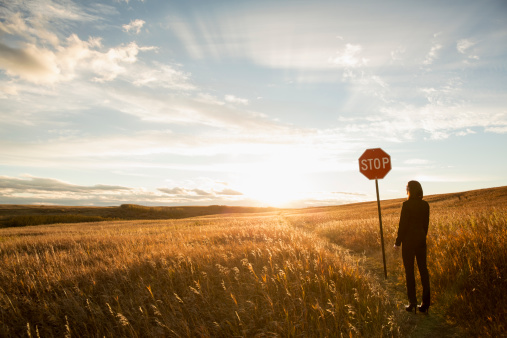em pe: (392, 169, 431, 311)
